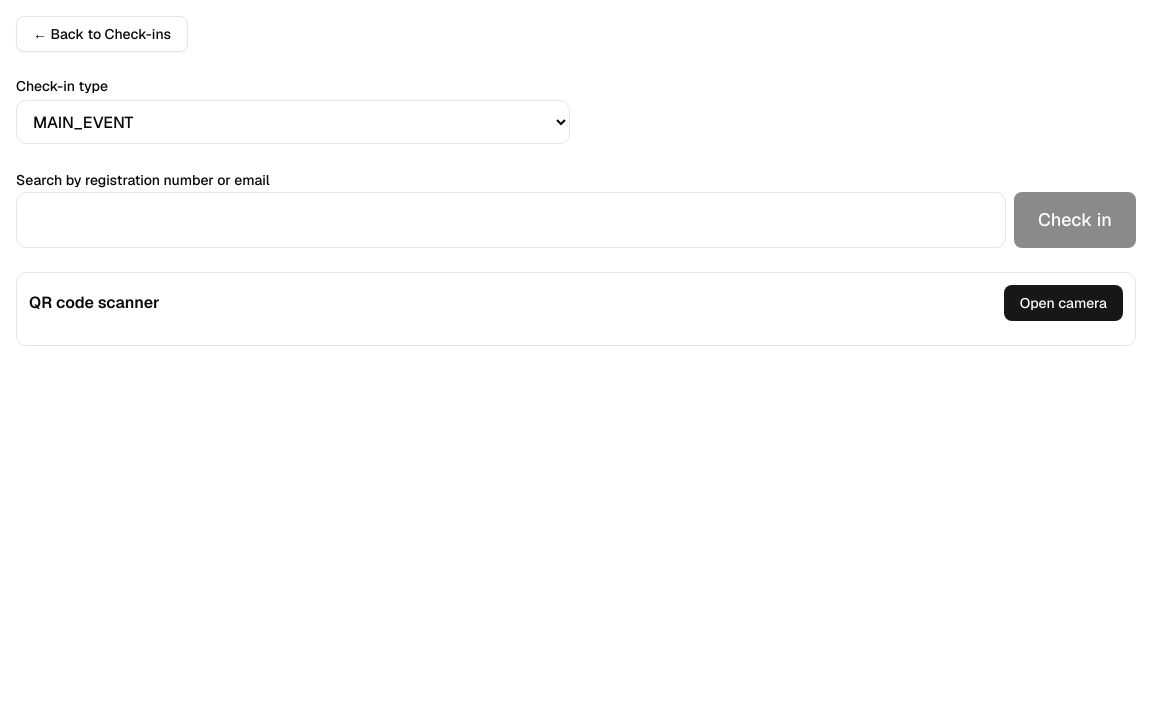
Test: CheckinScanner › shows a calm already-checked-in state when the response says reused
Type "REG-000123" into the field labelled "Search by registration number or email".
click(511, 220); type("REG-000123")  # box [16,192,1006,248]
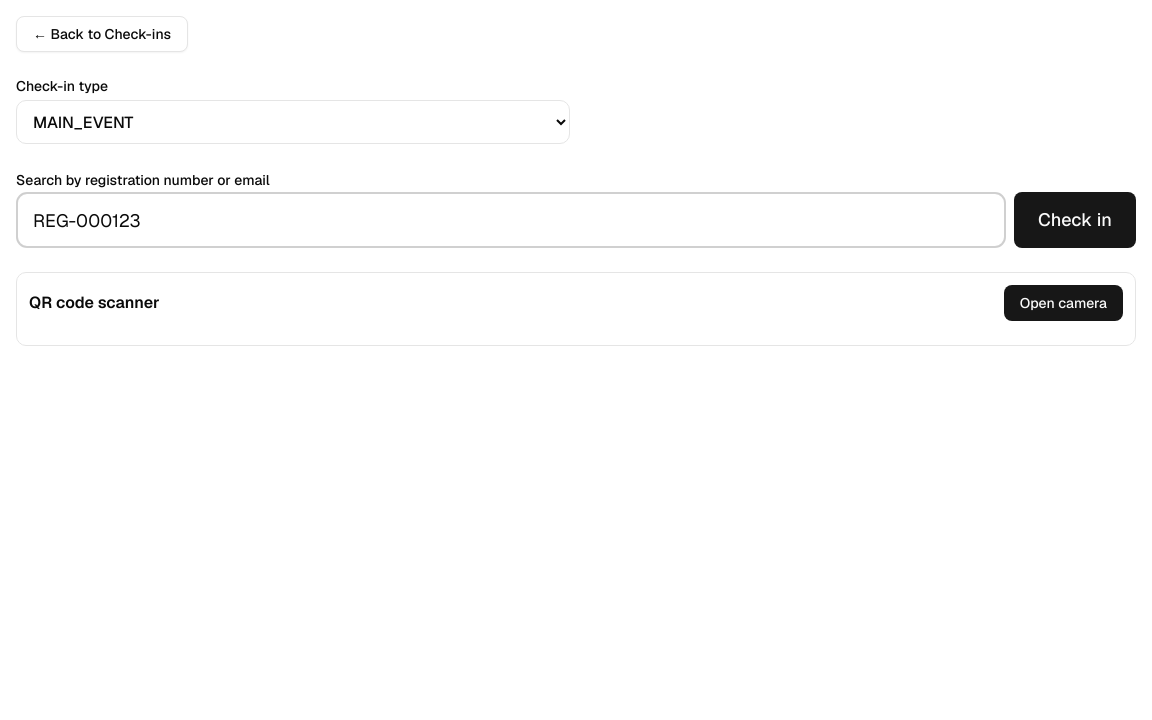
Click the button "Check in".
click(1075, 220)  # box [1014,192,1136,248]
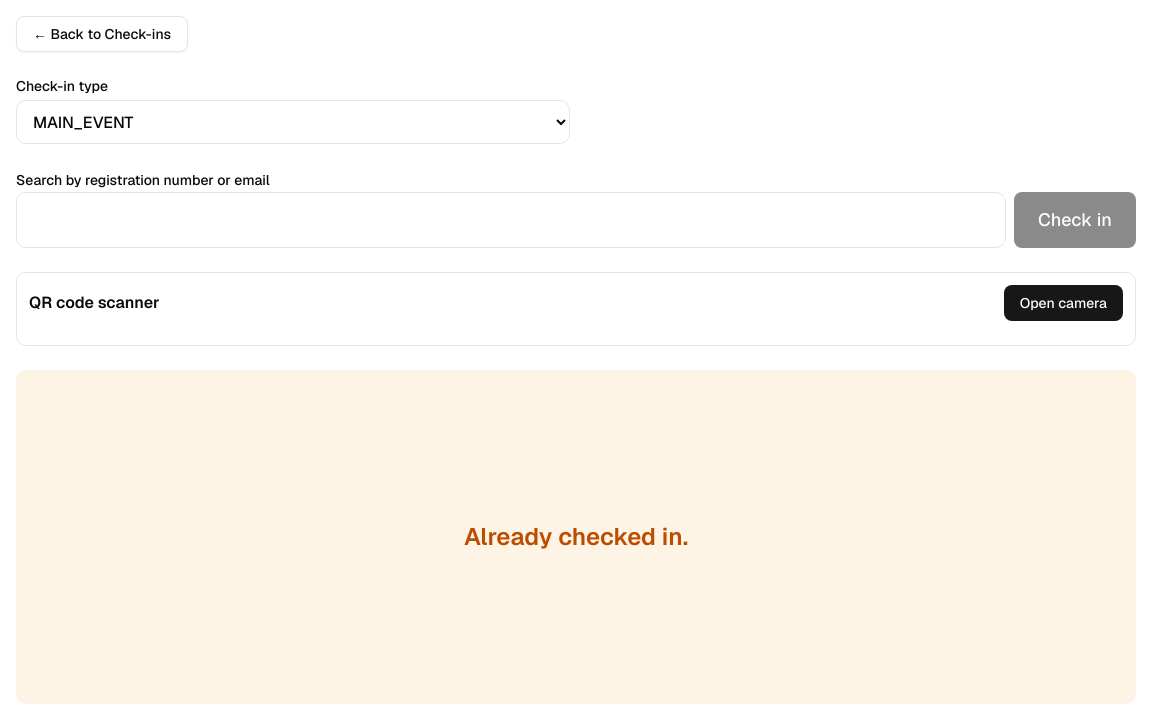
Now the text "Already checked in." is shown, box [16,370,1136,704]
